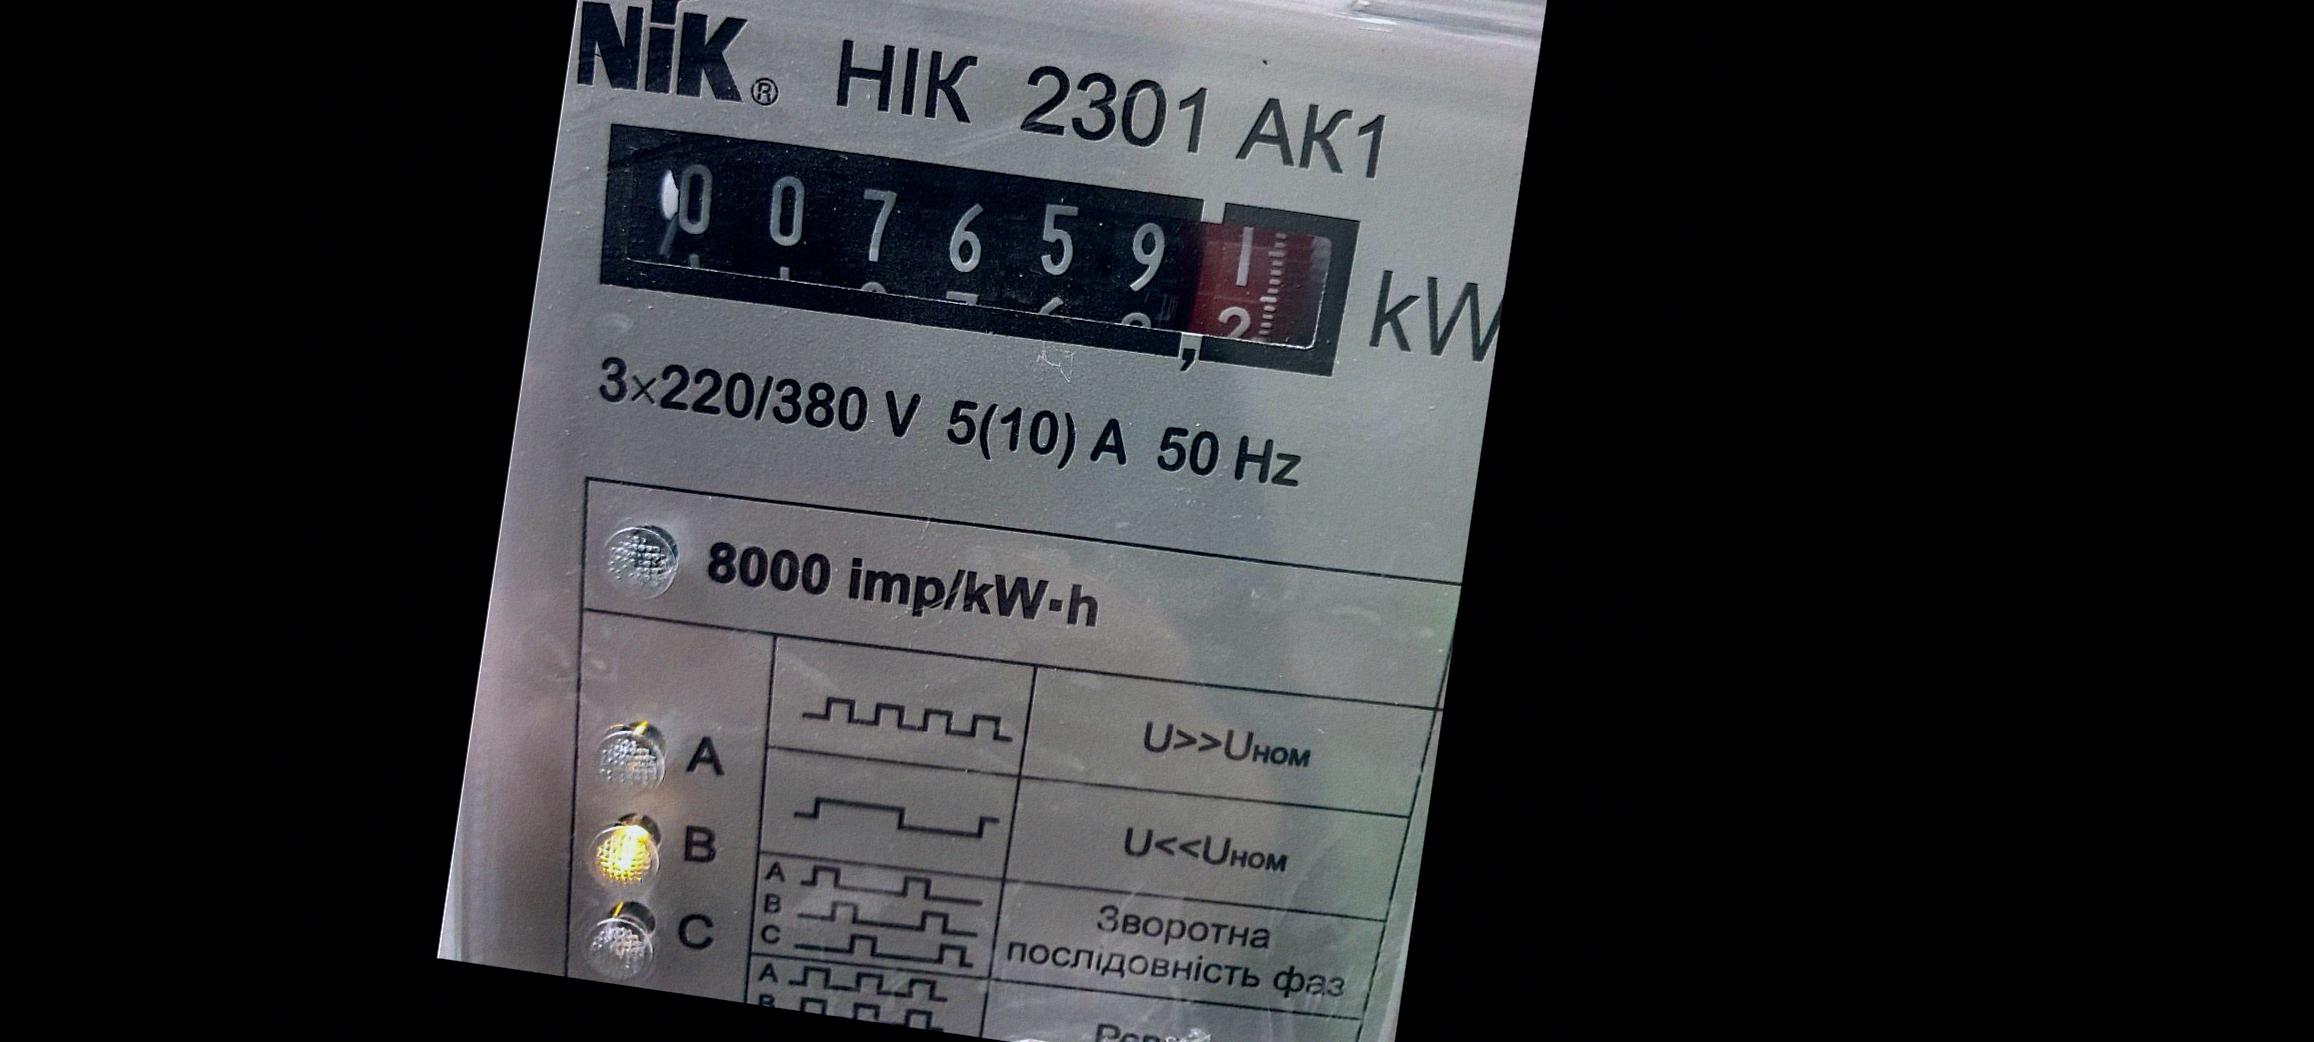0: (753, 162, 821, 255), (666, 151, 728, 246)
1: (1225, 217, 1269, 297)
5: (1029, 195, 1088, 283)
6: (936, 190, 998, 280)
7: (849, 180, 903, 270)
9: (1120, 211, 1175, 306)
screen: (567, 89, 1384, 415)
